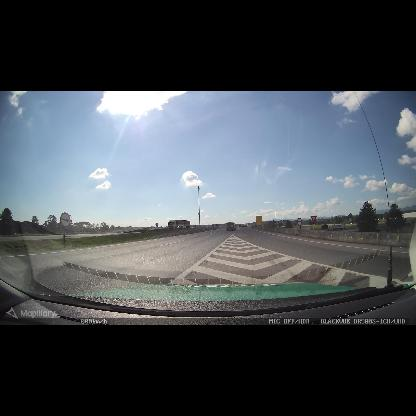O-MP: (146, 227, 149, 236)
R-2: (310, 216, 317, 223)
R-24a: (60, 212, 70, 227), (297, 218, 302, 225)
